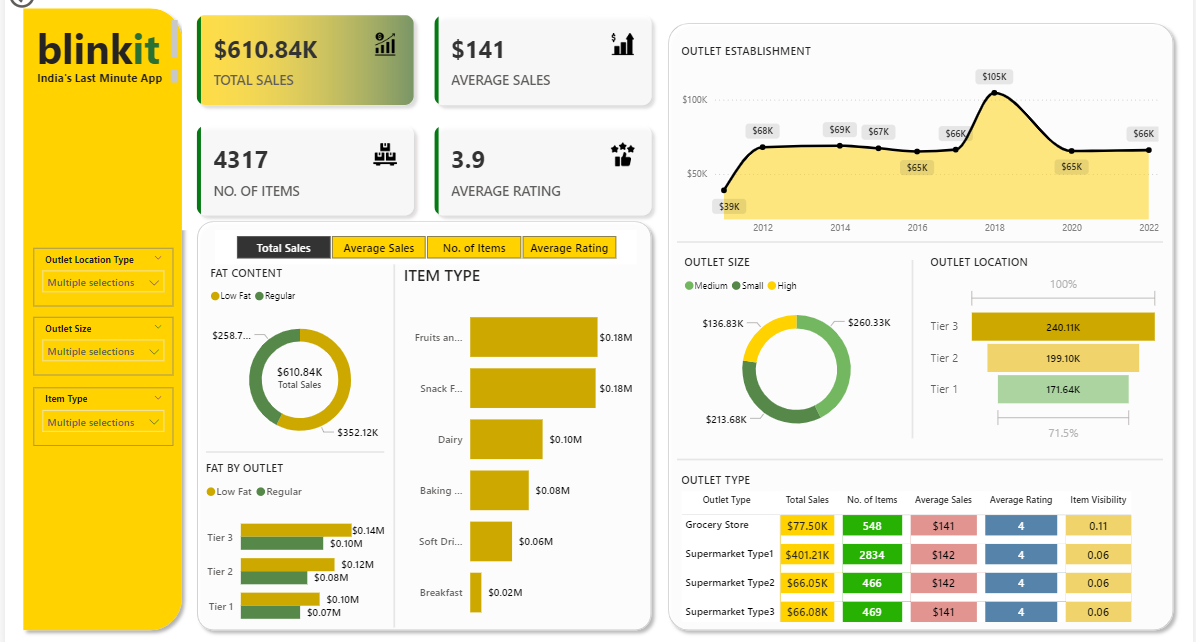

The page's visual inventory and layout, read from the dashboard file:
{"tool":"powerbi","page":{"name":"Page 1","canvas":[1400,800],"ordinal":0},"visuals":[{"type":"shape","box":[12.4,26.5,205,751.1],"z":0},{"type":"textbox","box":[19.4,44.2,189.1,63.6],"z":1000},{"type":"textbox","box":[23,107.8,185.6,21.2],"z":2000},{"type":"cardVisual","fields":{"Data":["BlinkIT Grocery Data.Total Sales","BlinkIT Grocery Data.Average Sales","BlinkIT Grocery Data.No. of Items","BlinkIT Grocery Data.Average Rating"]},"box":[208.5,26.5,570.9,270.4],"z":3000},{"type":"shape","box":[217.4,277.5,553.2,500.2],"z":4000},{"type":"donutChart","title":"FAT CONTENT","fields":{"Y":["BlinkIT Grocery Data.Total Sales"],"Category":["BlinkIT Grocery Data.Item Fat Content"]},"box":[236.8,337.6,220.9,226.2],"z":5000},{"type":"slicer","fields":{"Values":["Metrics.Metrics"]},"box":[247.4,296.9,496.6,40.6],"z":6000},{"type":"cardVisual","fields":{"Data":["BlinkIT Grocery Data.Total Sales"]},"box":[288.1,434.8,118.4,70.7],"z":7000},{"type":"clusteredBarChart","title":"FAT BY OUTLET","fields":{"Y":["BlinkIT Grocery Data.Total Sales"],"Category":["BlinkIT Grocery Data.Outlet Location Type"],"Series":["BlinkIT Grocery Data.Item Fat Content"]},"box":[231.5,567.3,220.9,210.3],"z":8000},{"type":"shape","box":[236.8,528.4,210.3,60.1],"z":9000},{"type":"shape","box":[452.4,337.6,12.4,427.7],"z":10000},{"type":"barChart","title":"ITEM TYPE","fields":{"Y":["BlinkIT Grocery Data.Total Sales"],"Category":["BlinkIT Grocery Data.Item Type"]},"box":[464.8,337.6,279.2,440.1],"z":11000},{"type":"shape","box":[772.3,44.2,613.3,733.4],"z":12000},{"type":"lineChart","title":"OUTLET ESTABLISHMENT","fields":{"Category":["BlinkIT Grocery Data.Outlet Establishment Year"],"Y":["BlinkIT Grocery Data.Total Sales"]},"box":[791.8,76,572.6,235.1],"z":13000},{"type":"shape","box":[791.8,281,572.6,60.1],"z":14000},{"type":"donutChart","title":"OUTLET SIZE","fields":{"Y":["BlinkIT Grocery Data.Total Sales"],"Category":["BlinkIT Grocery Data.Outlet Size"]},"box":[795.3,325.2,273.9,226.2],"z":15000},{"type":"shape","box":[1067.5,332.3,3.5,210.3],"z":16000},{"type":"funnel","title":"OUTLET LOCATION","fields":{"Y":["Sum(BlinkIT Grocery Data.Sales)"],"Category":["BlinkIT Grocery Data.Outlet Location Type"]},"box":[1085.2,325.2,279.2,226.2],"z":17000},{"type":"shape","box":[791.8,537.3,572.6,60.1],"z":18000},{"type":"pivotTable","title":"OUTLET TYPE","fields":{"Rows":["BlinkIT Grocery Data.Outlet Type"],"Values":["BlinkIT Grocery Data.Total Sales","BlinkIT Grocery Data.No. of Items","BlinkIT Grocery Data.Average Sales","BlinkIT Grocery Data.Average Rating","Avg(BlinkIT Grocery Data.Item Visibility)"]},"box":[791.8,581.5,572.6,196.2],"z":19000},{"type":"actionButton","box":[0,0,100,40],"z":20000},{"type":"slicer","fields":{"Values":["BlinkIT Grocery Data.Outlet Location Type"]},"box":[33.6,318.1,164.4,68.9],"z":21000},{"type":"slicer","fields":{"Values":["BlinkIT Grocery Data.Outlet Size"]},"box":[33.6,399.4,164.4,68.9],"z":22000},{"type":"slicer","fields":{"Values":["BlinkIT Grocery Data.Item Type"]},"box":[33.6,482.5,164.4,68.9],"z":23000}]}

Visuals, with their boxes on the page's 1400x800 design canvas (x1, y1, x2, y2). These are canvas units, not pixel positions in the 1196x642 screenshot, which may show the page scaled, cropped or inside an application window:
shape: pyautogui.locateOnScreen(12, 26, 217, 778)
textbox: pyautogui.locateOnScreen(19, 44, 208, 108)
textbox: pyautogui.locateOnScreen(23, 108, 209, 129)
cardVisual - BlinkIT Grocery Data.Total Sales x BlinkIT Grocery Data.Average Sales: pyautogui.locateOnScreen(208, 26, 779, 297)
shape: pyautogui.locateOnScreen(217, 278, 771, 778)
"FAT CONTENT" donutChart: pyautogui.locateOnScreen(237, 338, 458, 564)
slicer - Metrics.Metrics: pyautogui.locateOnScreen(247, 297, 744, 338)
cardVisual - BlinkIT Grocery Data.Total Sales: pyautogui.locateOnScreen(288, 435, 406, 506)
"FAT BY OUTLET" clusteredBarChart: pyautogui.locateOnScreen(232, 567, 452, 778)
shape: pyautogui.locateOnScreen(237, 528, 447, 588)
shape: pyautogui.locateOnScreen(452, 338, 465, 765)
"ITEM TYPE" barChart: pyautogui.locateOnScreen(465, 338, 744, 778)
shape: pyautogui.locateOnScreen(772, 44, 1386, 778)
"OUTLET ESTABLISHMENT" lineChart: pyautogui.locateOnScreen(792, 76, 1364, 311)
shape: pyautogui.locateOnScreen(792, 281, 1364, 341)
"OUTLET SIZE" donutChart: pyautogui.locateOnScreen(795, 325, 1069, 551)
shape: pyautogui.locateOnScreen(1068, 332, 1071, 543)
"OUTLET LOCATION" funnel: pyautogui.locateOnScreen(1085, 325, 1364, 551)
shape: pyautogui.locateOnScreen(792, 537, 1364, 597)
"OUTLET TYPE" pivotTable: pyautogui.locateOnScreen(792, 582, 1364, 778)
actionButton: pyautogui.locateOnScreen(0, 0, 100, 40)
slicer - BlinkIT Grocery Data.Outlet Location Type: pyautogui.locateOnScreen(34, 318, 198, 387)
slicer - BlinkIT Grocery Data.Outlet Size: pyautogui.locateOnScreen(34, 399, 198, 468)
slicer - BlinkIT Grocery Data.Item Type: pyautogui.locateOnScreen(34, 482, 198, 551)
